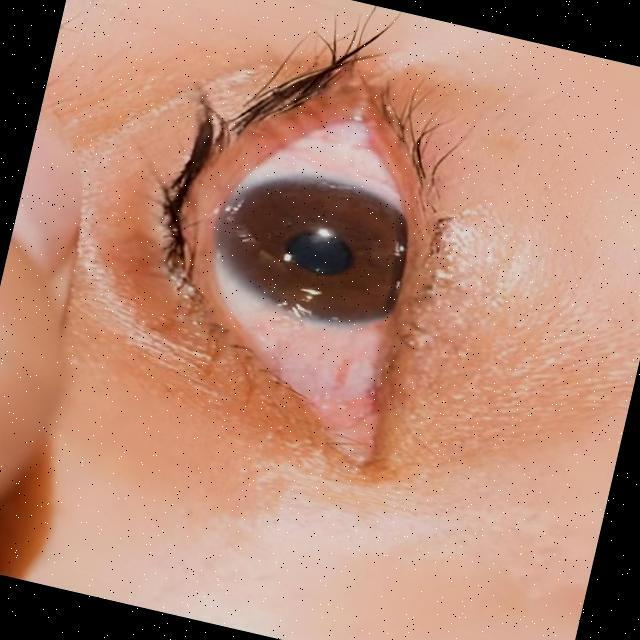Pterygium: (225, 268, 395, 451)
